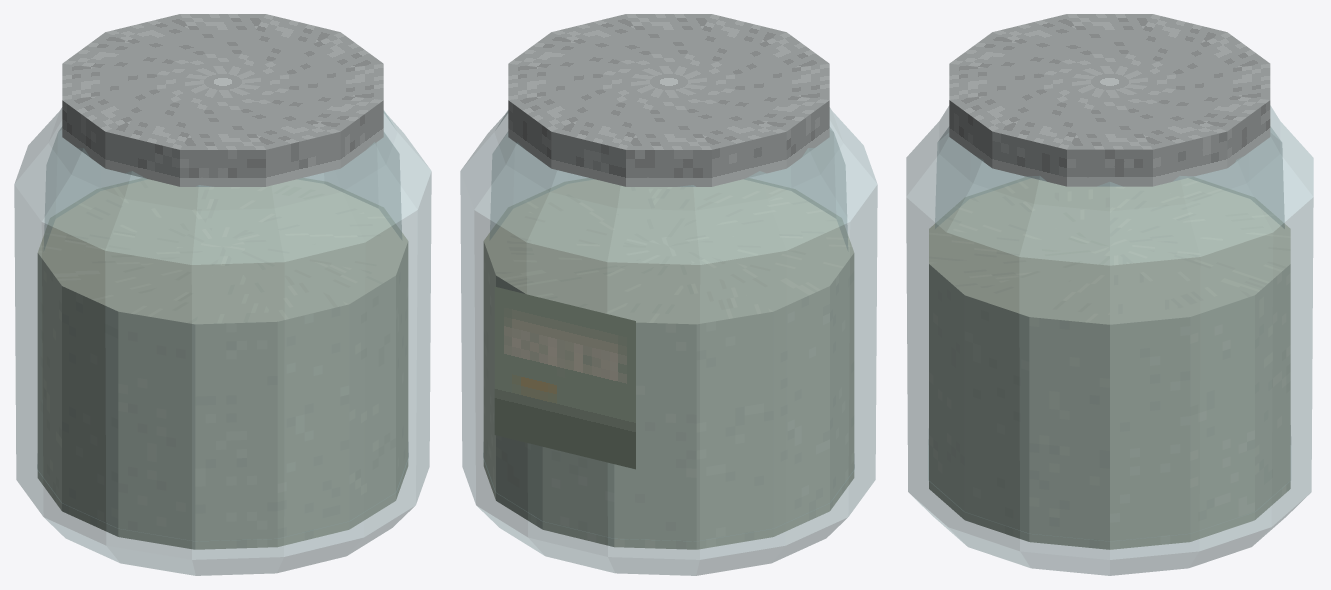
The model's file is moonshine.glb.
3 views of the same model, side by side, from view 1: azimuth 30°, elevation 25°; view 2: azimuth 150°, elevation 25°; view 3: azimuth 270°, elevation 25° (orthographic).
Visible parts, largest first — view 1: block_glass preserving jar, block_jar contents, block_metal jar lid; view 2: block_glass preserving jar, block_jar contents, block_metal jar lid, block_jar label; view 3: block_glass preserving jar, block_jar contents, block_metal jar lid.
Boxes of the visible parts, bbox=[...] form: block_glass preserving jar: bbox=[14, 107, 431, 575]; block_jar contents: bbox=[37, 178, 408, 549]; block_metal jar lid: bbox=[62, 14, 383, 186]; block_glass preserving jar: bbox=[460, 107, 877, 575]; block_jar contents: bbox=[483, 178, 854, 549]; block_metal jar lid: bbox=[508, 14, 829, 186]; block_jar label: bbox=[494, 286, 635, 469]; block_glass preserving jar: bbox=[906, 105, 1313, 575]; block_jar contents: bbox=[929, 177, 1290, 549]; block_metal jar lid: bbox=[949, 14, 1270, 186].
Bounding box in the file's own units: 0.1486 × 0.1638 × 0.146.
Materials: 2 (2 with a texture image).
